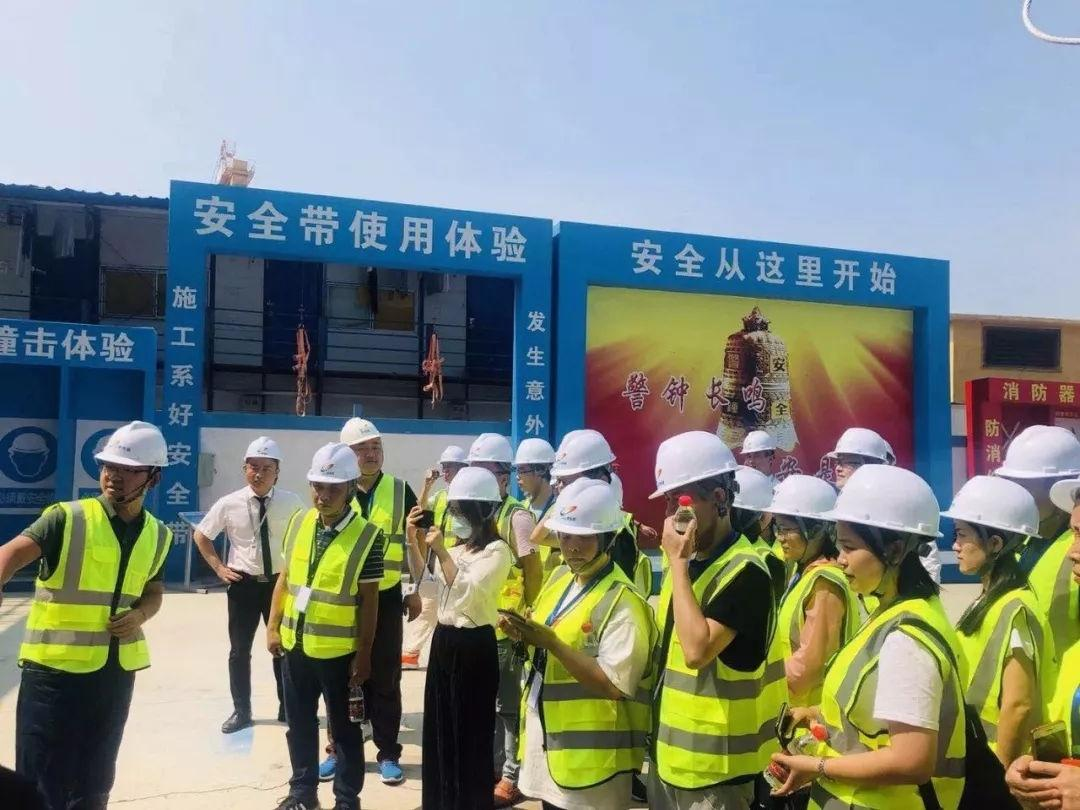NoVest: (659, 559, 785, 774), (531, 566, 640, 801), (32, 500, 165, 675), (286, 511, 380, 653)
